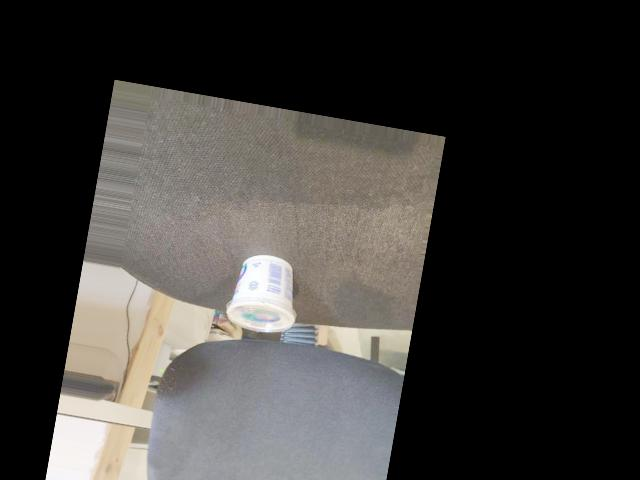cotage: (225, 243, 303, 339)
